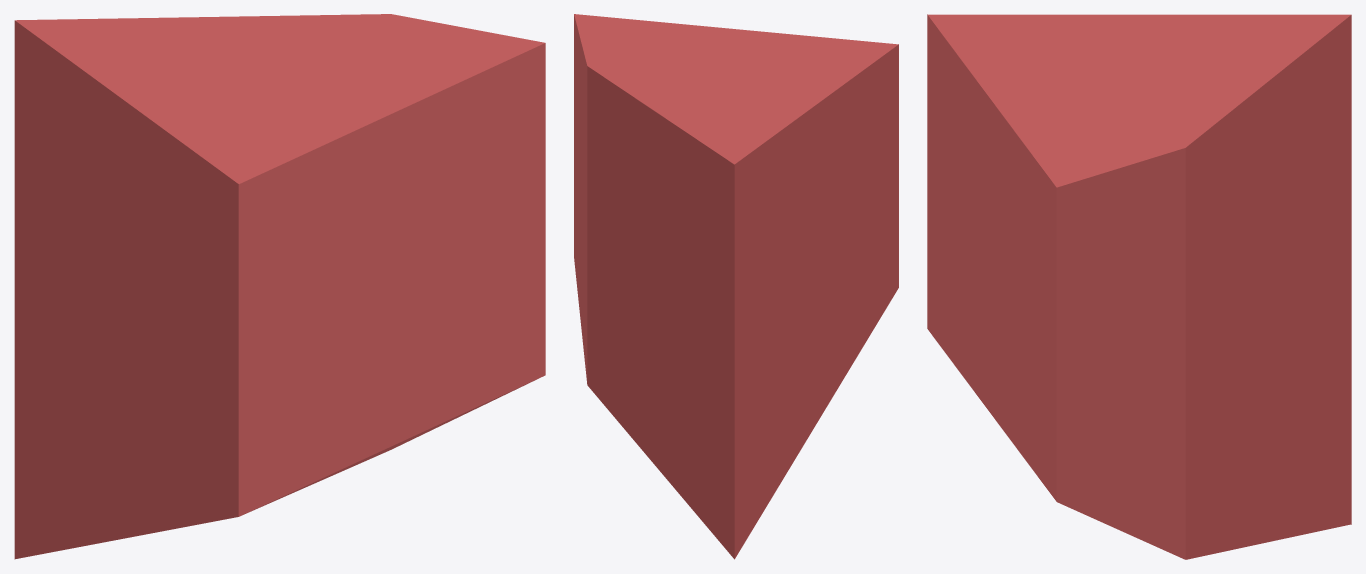
3 views of the same model, side by side, from view 1: azimuth 30°, elevation 25°; view 2: azimuth 150°, elevation 25°; view 3: azimuth 270°, elevation 25° (orthographic). The views are drawn at different scales.
Visible parts, largest first — view 1: kb3_e_col; view 2: kb3_e_col; view 3: kb3_e_col.
Boxes of the visible parts, x1,y1,x2,y2 form: kb3_e_col: [14, 14, 545, 559]; kb3_e_col: [574, 14, 898, 559]; kb3_e_col: [927, 14, 1351, 559].
Bounding box in the file's own units: 1.9 × 2.62 × 1.97.
